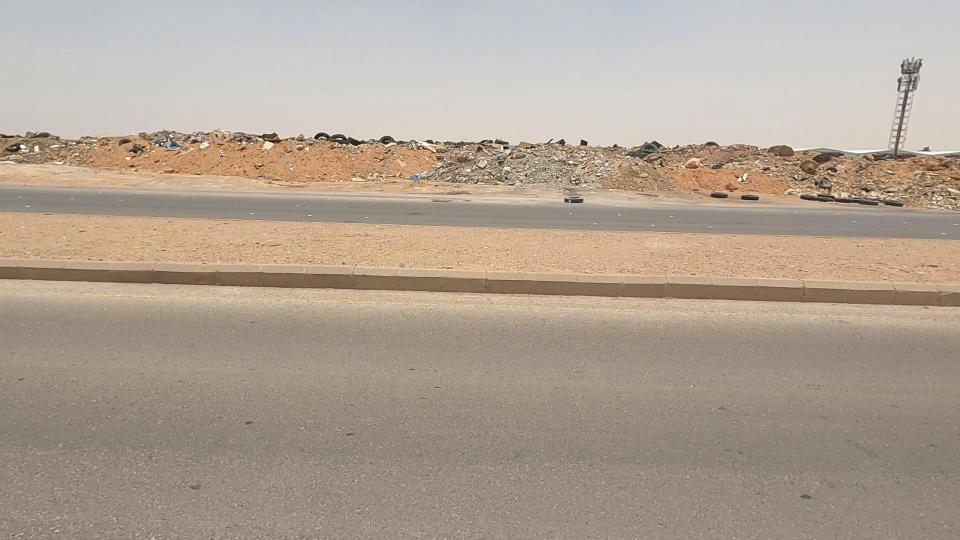CLUTTER_SIDEWALK: (488, 188, 954, 326), (191, 183, 645, 315), (0, 172, 406, 315)
GARBAGE: (660, 155, 811, 234), (740, 156, 879, 227), (326, 106, 478, 168), (607, 109, 717, 192), (808, 174, 956, 234), (277, 108, 408, 173), (438, 125, 543, 195), (127, 111, 230, 172), (375, 145, 483, 203), (523, 118, 622, 177), (86, 115, 179, 175), (222, 117, 332, 166), (528, 166, 613, 224), (0, 119, 65, 178), (665, 137, 724, 186), (189, 115, 252, 157)
